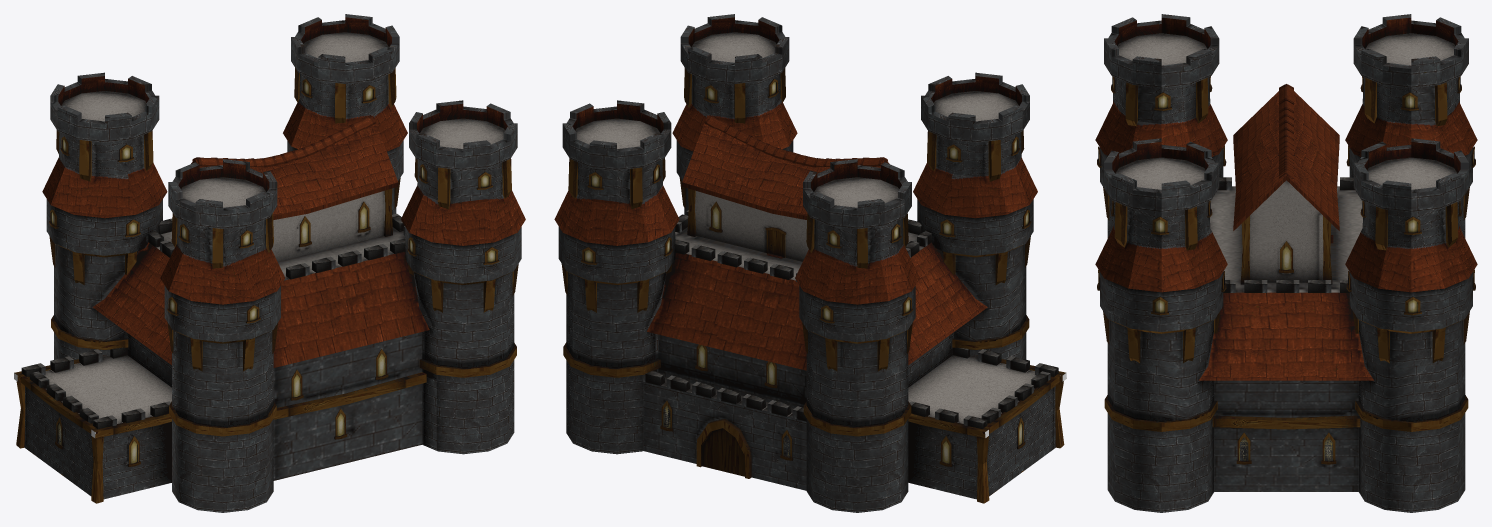
The model's file is castle.obj.
The picture shows the model from 3 angles, left to right: view 1: azimuth 30°, elevation 25°; view 2: azimuth 150°, elevation 25°; view 3: azimuth 270°, elevation 25°; orthographic projection. The views are drawn at different scales.
Parts seen in each view (by area): view 1: castle; view 2: castle; view 3: castle.
Part boxes in pixels (x1,y1,x2,y2): castle: [14, 14, 525, 512]; castle: [554, 14, 1066, 512]; castle: [1095, 14, 1477, 512].
Bounding box in the file's own units: 42.22 × 30.92 × 32.68.
Materials: 1 (1 with a texture image).
